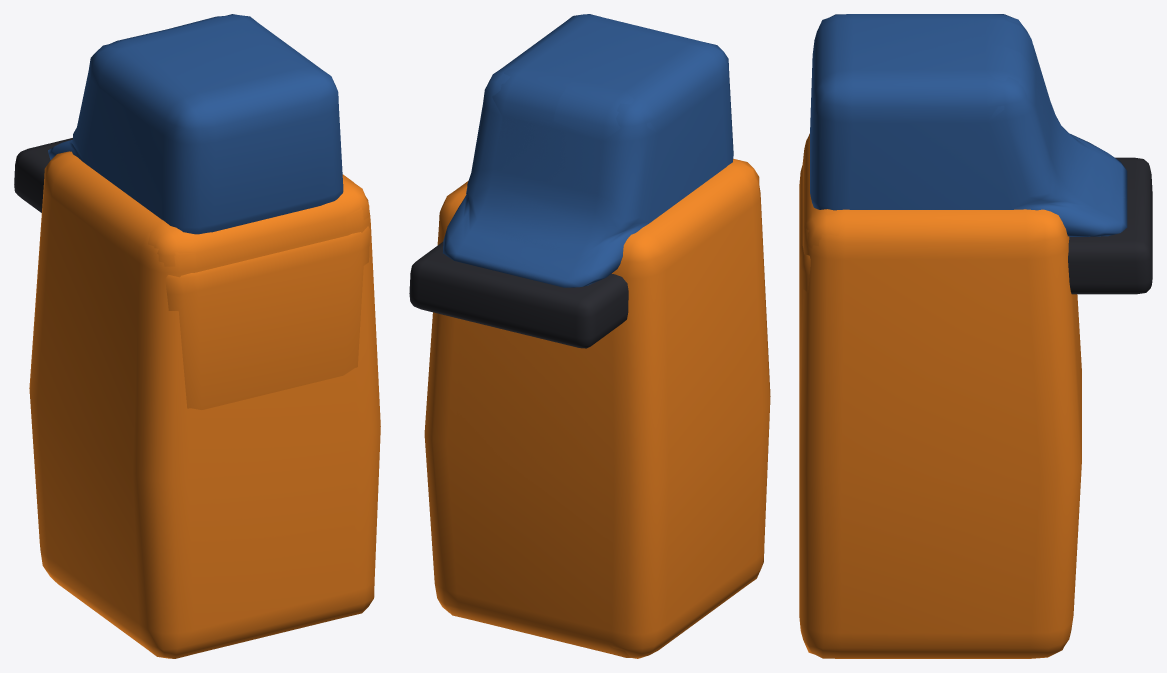
The model's file is legs-sensei.glb.
3 views of the same model, side by side, from view 1: azimuth 30°, elevation 25°; view 2: azimuth 150°, elevation 25°; view 3: azimuth 270°, elevation 25° (orthographic). The views are drawn at different scales.
Visible parts, largest first — view 1: thighL__gi, ankleL__boot, thighR__gi, ankleR__boot, kneeL__gi-shin, kneeR__gi-shin, ankleL__sole, ankleR__sole; view 2: thighL__gi, ankleL__boot, thighR__gi, ankleR__boot, ankleL__sole, ankleR__sole; view 3: thighR__gi, ankleL__boot, ankleR__boot, ankleL__sole, ankleR__sole, thighL__gi, kneeL__gi-shin.
Boxes of the visible parts, x1,y1,x2,y2 form: thighL__gi: (29,151,369,658); ankleL__boot: (49,15,343,234); thighR__gi: (148,174,380,657); ankleR__boot: (48,14,338,234); kneeL__gi-shin: (165,226,369,409); kneeR__gi-shin: (166,232,366,409); ankleL__sole: (14,138,72,212); ankleR__sole: (14,145,55,212); thighL__gi: (450,159,770,658); ankleL__boot: (443,14,730,287); thighR__gi: (424,159,759,657); ankleR__boot: (443,14,733,287); ankleL__sole: (409,242,628,348); ankleR__sole: (409,242,628,348); thighR__gi: (799,133,1081,658); ankleL__boot: (810,14,1127,236); ankleR__boot: (810,14,1127,236); ankleL__sole: (1068,157,1152,294); ankleR__sole: (1068,157,1152,294); thighL__gi: (799,139,1081,650); kneeL__gi-shin: (799,165,810,386).
Size of the model in its own units: 0.218 by 0.475 by 0.2674.
